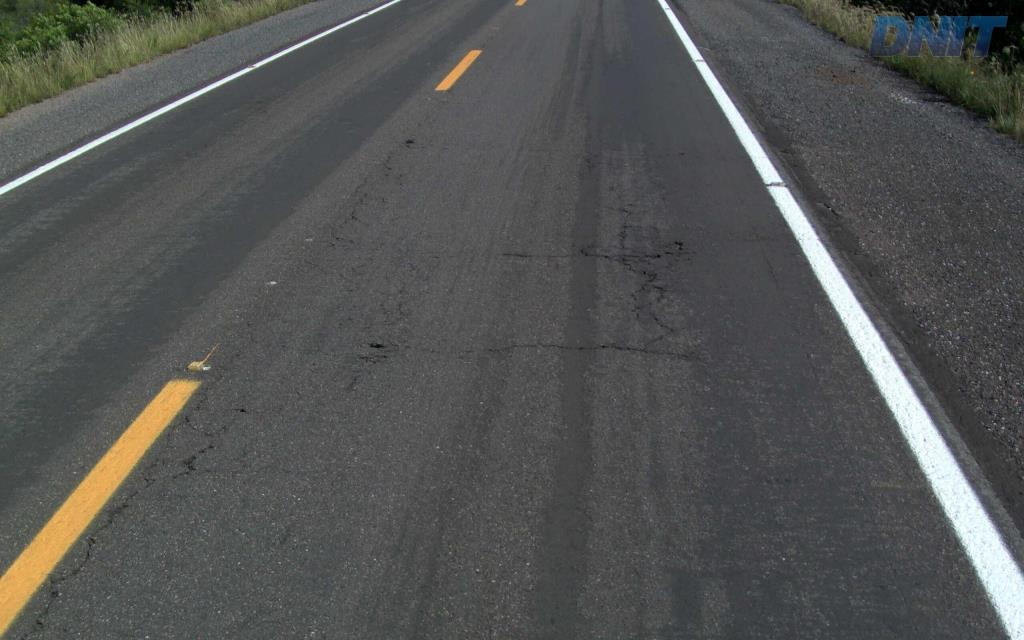crack: (614, 239, 689, 293)
